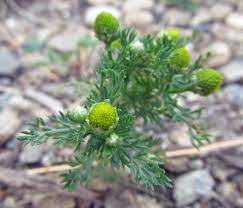pineple: (71, 80, 150, 166)
